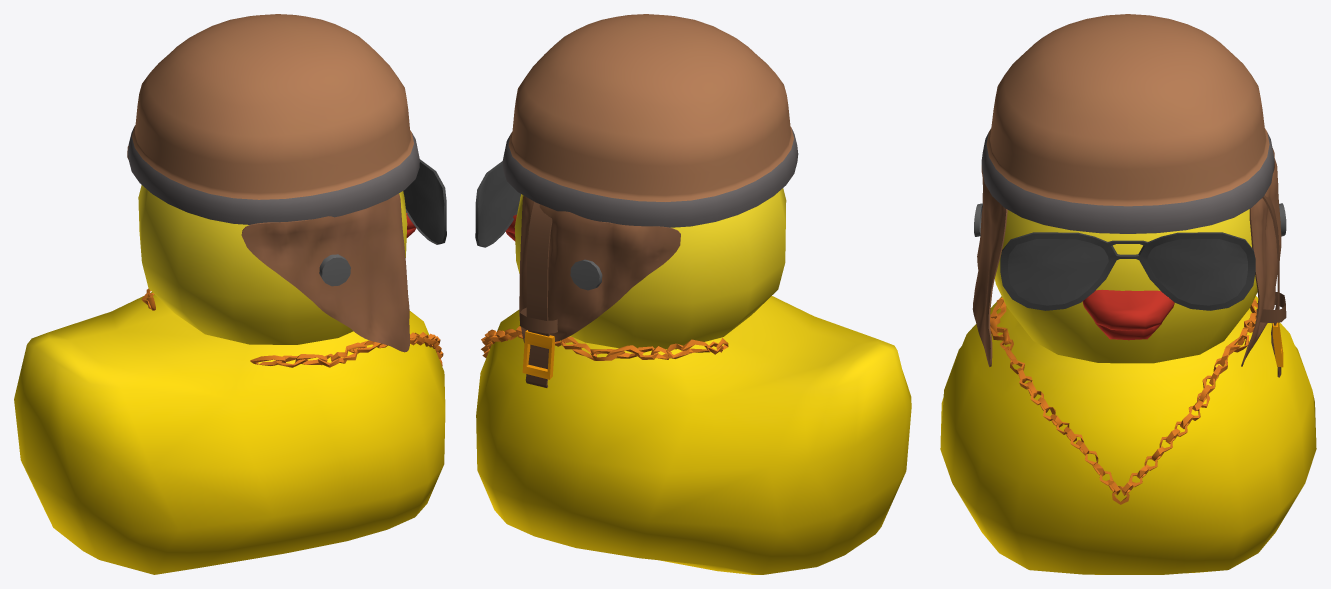
Rendered from Duck.fbx.
3 views of the same model, side by side, from view 1: azimuth 30°, elevation 25°; view 2: azimuth 150°, elevation 25°; view 3: azimuth 270°, elevation 25° (orthographic). The views are drawn at different scales.
Parts seen in each view (by area): view 1: Duck_policman_001_0; view 2: Duck_policman_001_0; view 3: Duck_policman_001_0.
Boxes of the visible parts, bbox=[...] form: Duck_policman_001_0: bbox=[14, 14, 446, 574]; Duck_policman_001_0: bbox=[475, 14, 911, 574]; Duck_policman_001_0: bbox=[940, 14, 1316, 574].
Size of the model in its own units: 1842 by 2080 by 1423.
